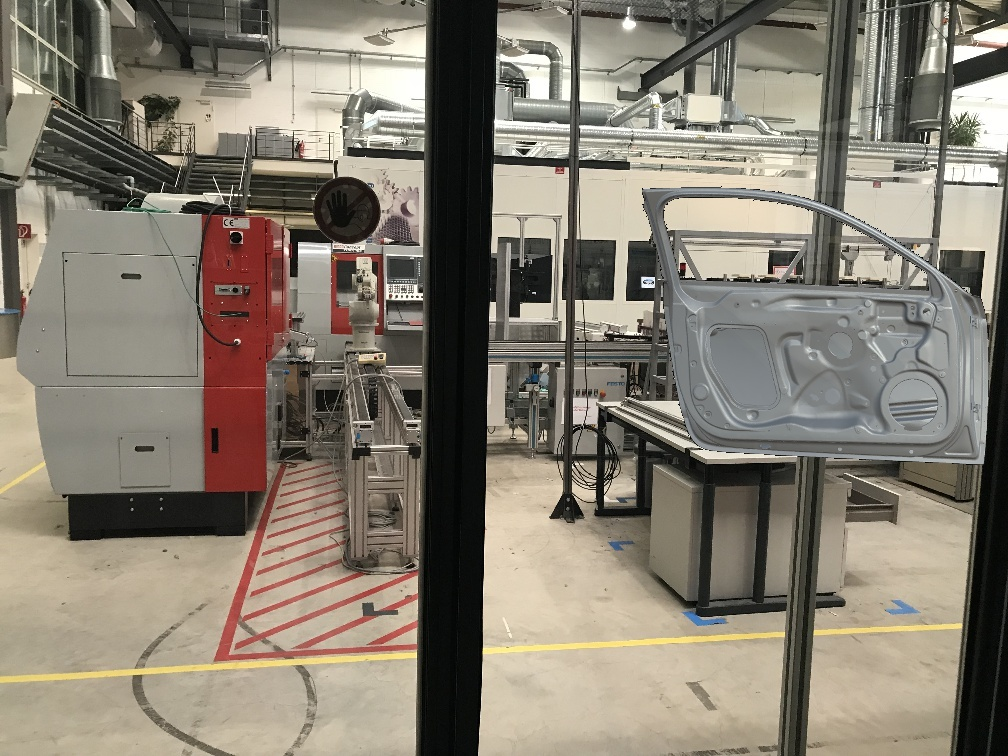car_door: (642, 186, 988, 464)
